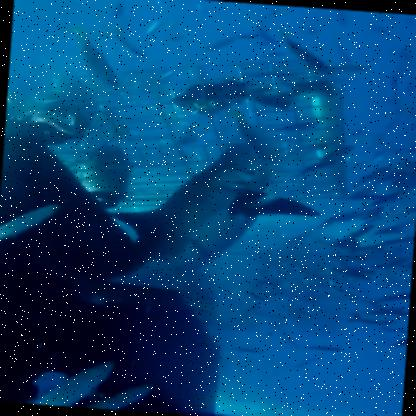white-shark: (33, 126, 324, 316)
